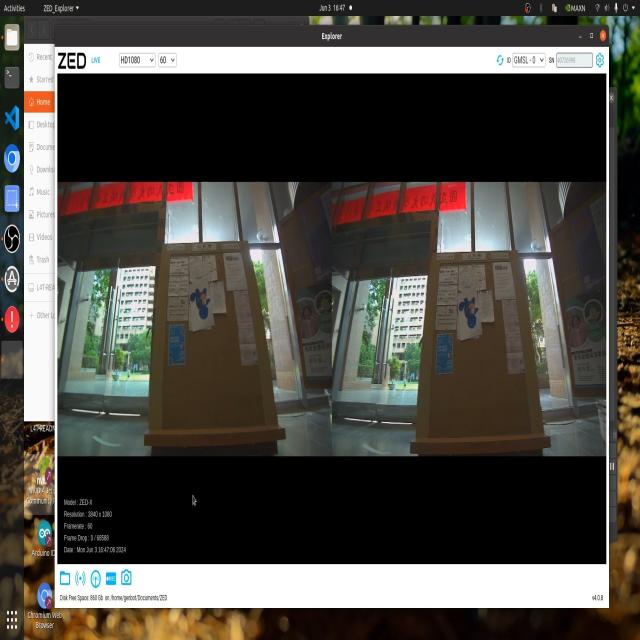blue: (186, 280, 218, 321), (457, 292, 485, 327)
